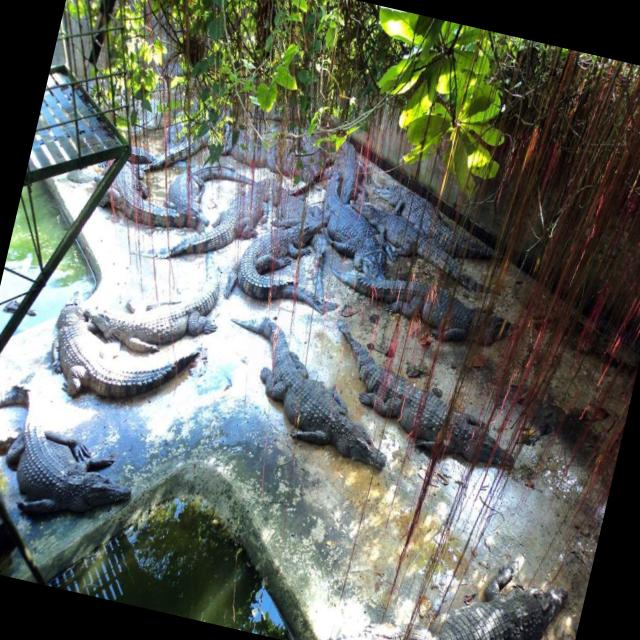crocodile: (304, 322, 542, 493), (337, 164, 520, 338), (88, 73, 240, 264), (220, 318, 393, 480), (21, 269, 231, 387), (0, 378, 171, 519), (223, 175, 352, 301), (475, 529, 595, 640)
